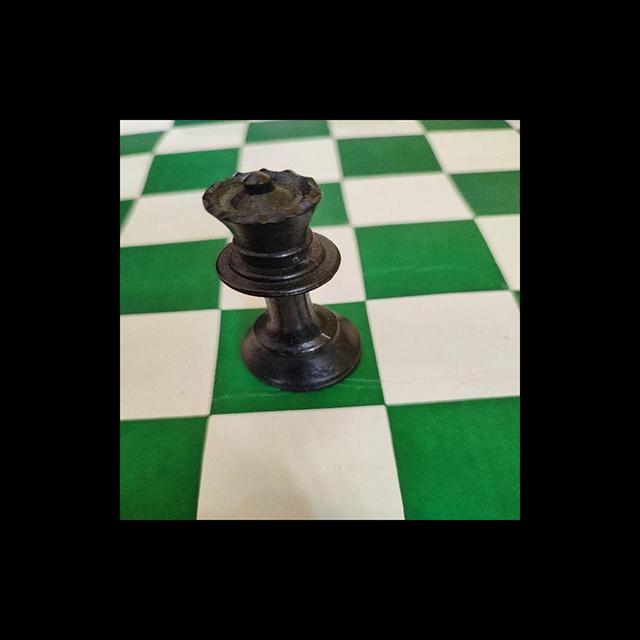black-queen: (202, 168, 364, 390)
